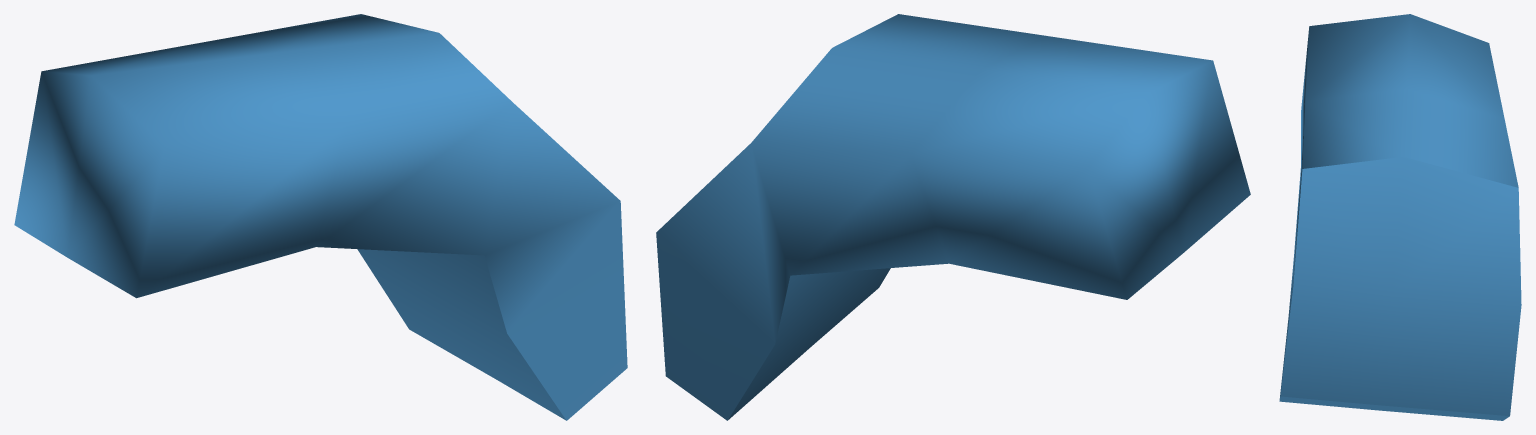
File: Driver_Hand_B.fbx
3 renders of one model, left to right at view 1: azimuth 30°, elevation 25°; view 2: azimuth 150°, elevation 25°; view 3: azimuth 270°, elevation 25°, orthographic. The views are drawn at different scales.
Visible parts, largest first — view 1: Driver_Hand_B; view 2: Driver_Hand_B; view 3: Driver_Hand_B.
Part boxes in pixels (x1,y1,x2,y2): Driver_Hand_B: (14, 14, 627, 420); Driver_Hand_B: (656, 14, 1250, 420); Driver_Hand_B: (1279, 14, 1521, 420).
Size of the model in its own units: 13 by 10.23 by 8.12.
